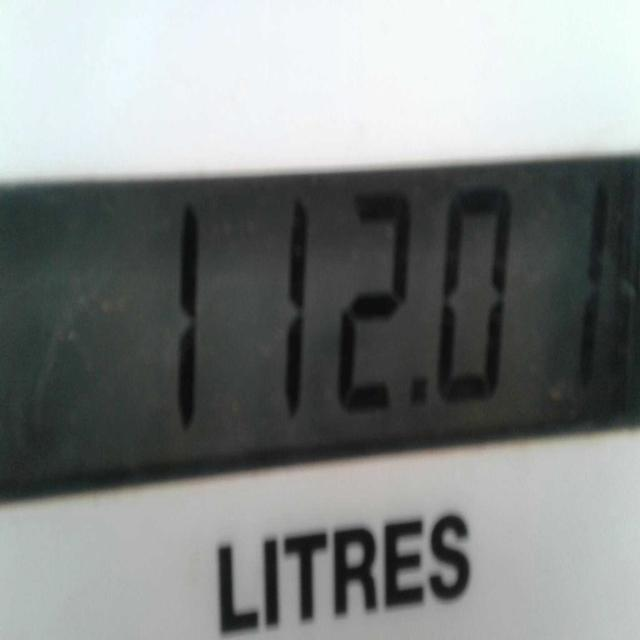.: (406, 370, 434, 414)
0: (437, 195, 517, 420)
1: (175, 198, 223, 438), (574, 170, 619, 405), (284, 190, 317, 416)
2: (336, 199, 403, 425)
